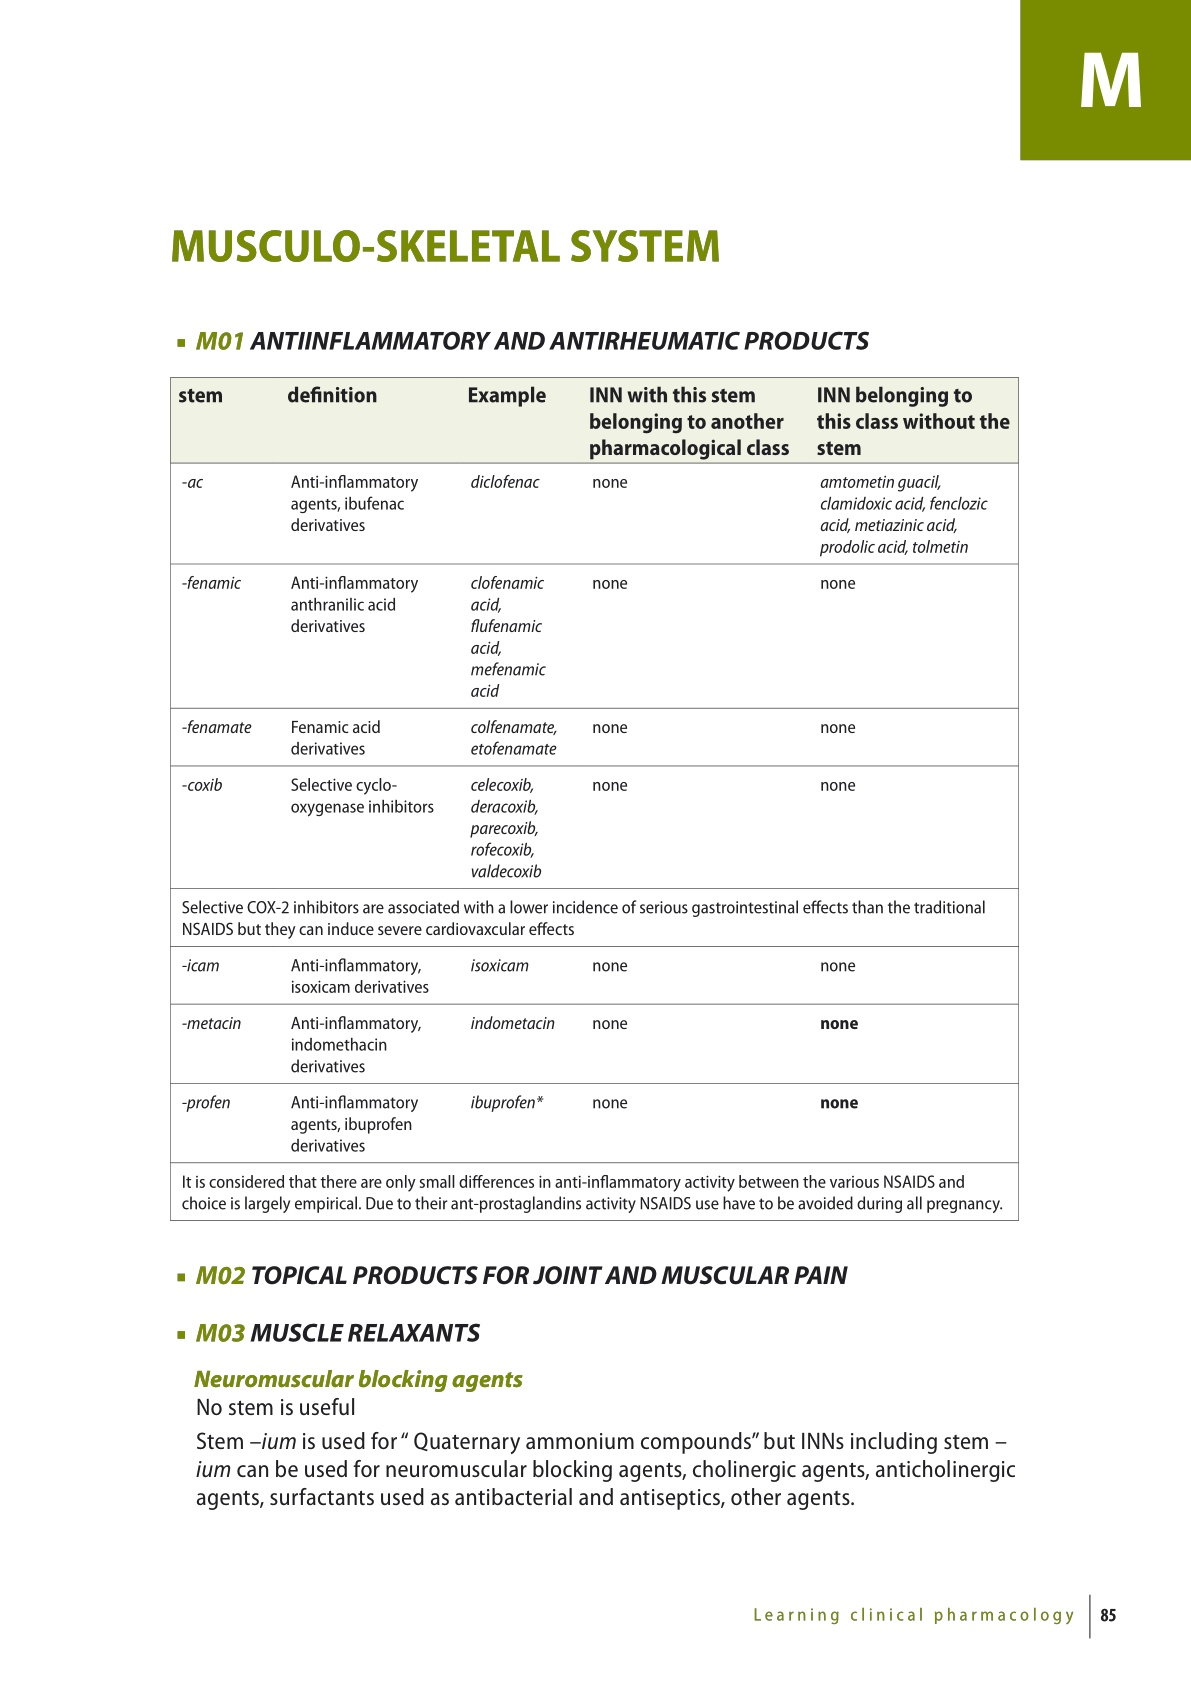partial_lined_merged_cells: (169, 376, 1020, 1221)
